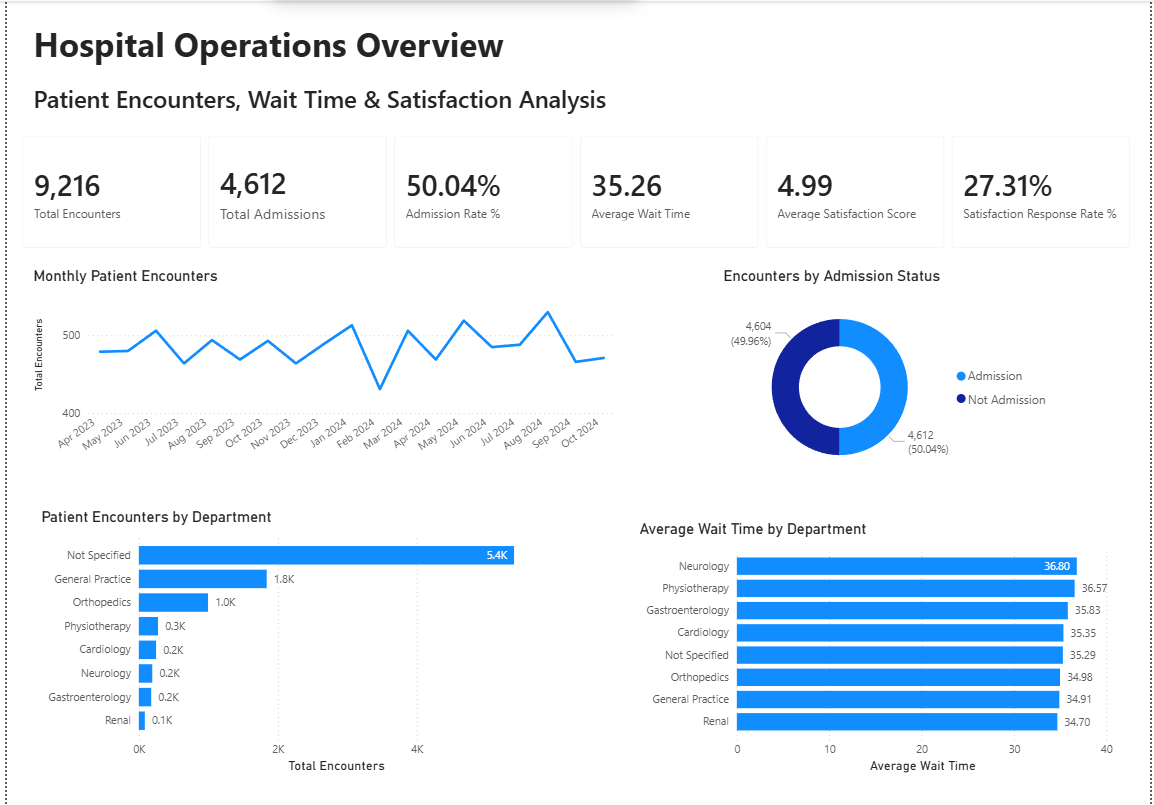

What the dashboard file says about the page in this screenshot:
{"tool":"powerbi","page":{"name":"Executive Overview","canvas":[1280,900],"ordinal":0},"visuals":[{"type":"cardVisual","fields":{"Data":["_Measures.Total Encounters","_Measures.Total Admissions","_Measures.Admission Rate %","_Measures.Average Wait Time","_Measures.Average Satisfaction Score","_Measures.Satisfaction Response Rate %"]},"box":[12.3,145.2,1252.9,136.6],"z":0},{"type":"lineChart","title":"Monthly Patient Encounters","fields":{"Category":["dim_calendar.MonthYear"],"Y":["_Measures.Total Encounters"]},"box":[24.6,297.8,660.9,227.7],"z":1000},{"type":"clusteredBarChart","title":"Patient Encounters by Department","fields":{"Category":["dim_department.DepartmentReferral"],"Y":["_Measures.Total Encounters"]},"box":[33.2,567.4,568.6,301.5],"z":2000},{"type":"textbox","box":[24.6,18.5,540.3,67.7],"z":3000},{"type":"textbox","box":[24.6,86.2,660.9,55.4],"z":4000},{"type":"donutChart","title":"Encounters by Admission Status","fields":{"Category":["fact_patient_encounter.AdmissionFlag"],"Y":["_Measures.Total Encounters"]},"box":[797.5,297.8,380.3,249.8],"z":5000},{"type":"clusteredBarChart","title":"Average Wait Time by Department","fields":{"Category":["dim_department.DepartmentReferral"],"Y":["_Measures.Average Wait Time"]},"box":[702.8,580.9,542.8,288],"z":6000}]}

Visuals, with their boxes in screenshot pixels (x1, y1, x2, y2), scaled from the page's 1280x900 canvas onto the 1154x805 screenshot:
cardVisual - _Measures.Total Encounters x _Measures.Total Admissions: left=11, top=130, right=1141, bottom=252
"Monthly Patient Encounters" lineChart: left=22, top=266, right=618, bottom=470
"Patient Encounters by Department" clusteredBarChart: left=30, top=508, right=543, bottom=777
textbox: left=22, top=17, right=509, bottom=77
textbox: left=22, top=77, right=618, bottom=127
"Encounters by Admission Status" donutChart: left=719, top=266, right=1062, bottom=490
"Average Wait Time by Department" clusteredBarChart: left=634, top=520, right=1123, bottom=777
